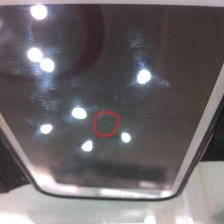phone: (0, 0, 224, 206)
